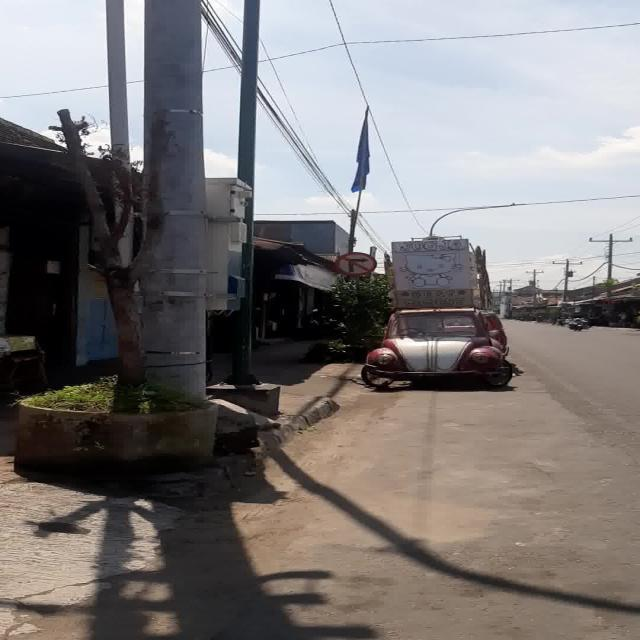Dilarang Belok Kanan: (334, 252, 376, 276)
